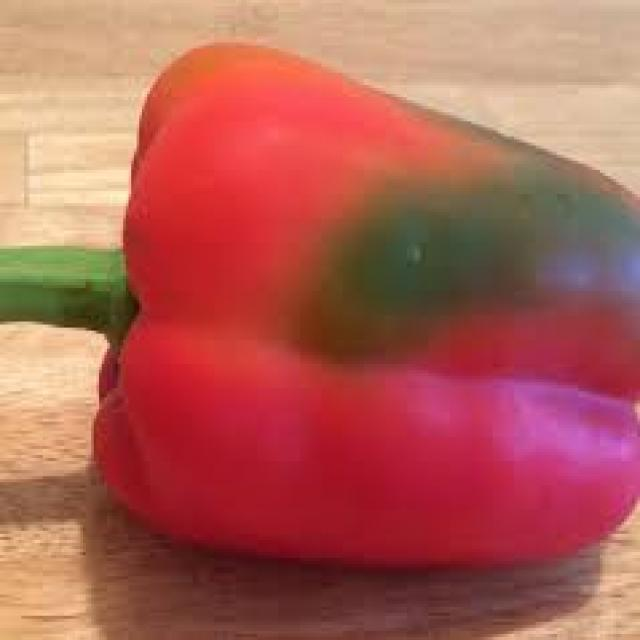Pepper: (91, 40, 640, 574)
